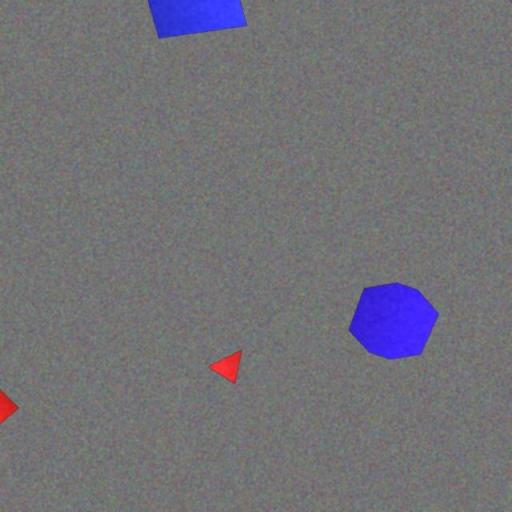BLUE_SQUARE: (133, 0, 248, 39)
RED_SQUARE: (0, 374, 19, 438)
